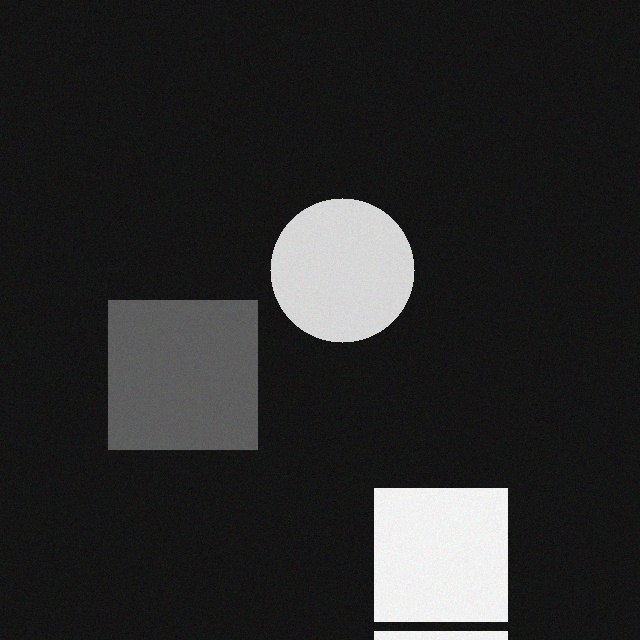circle: (269, 211, 413, 355)
square: (107, 313, 256, 462), (373, 501, 506, 634)
